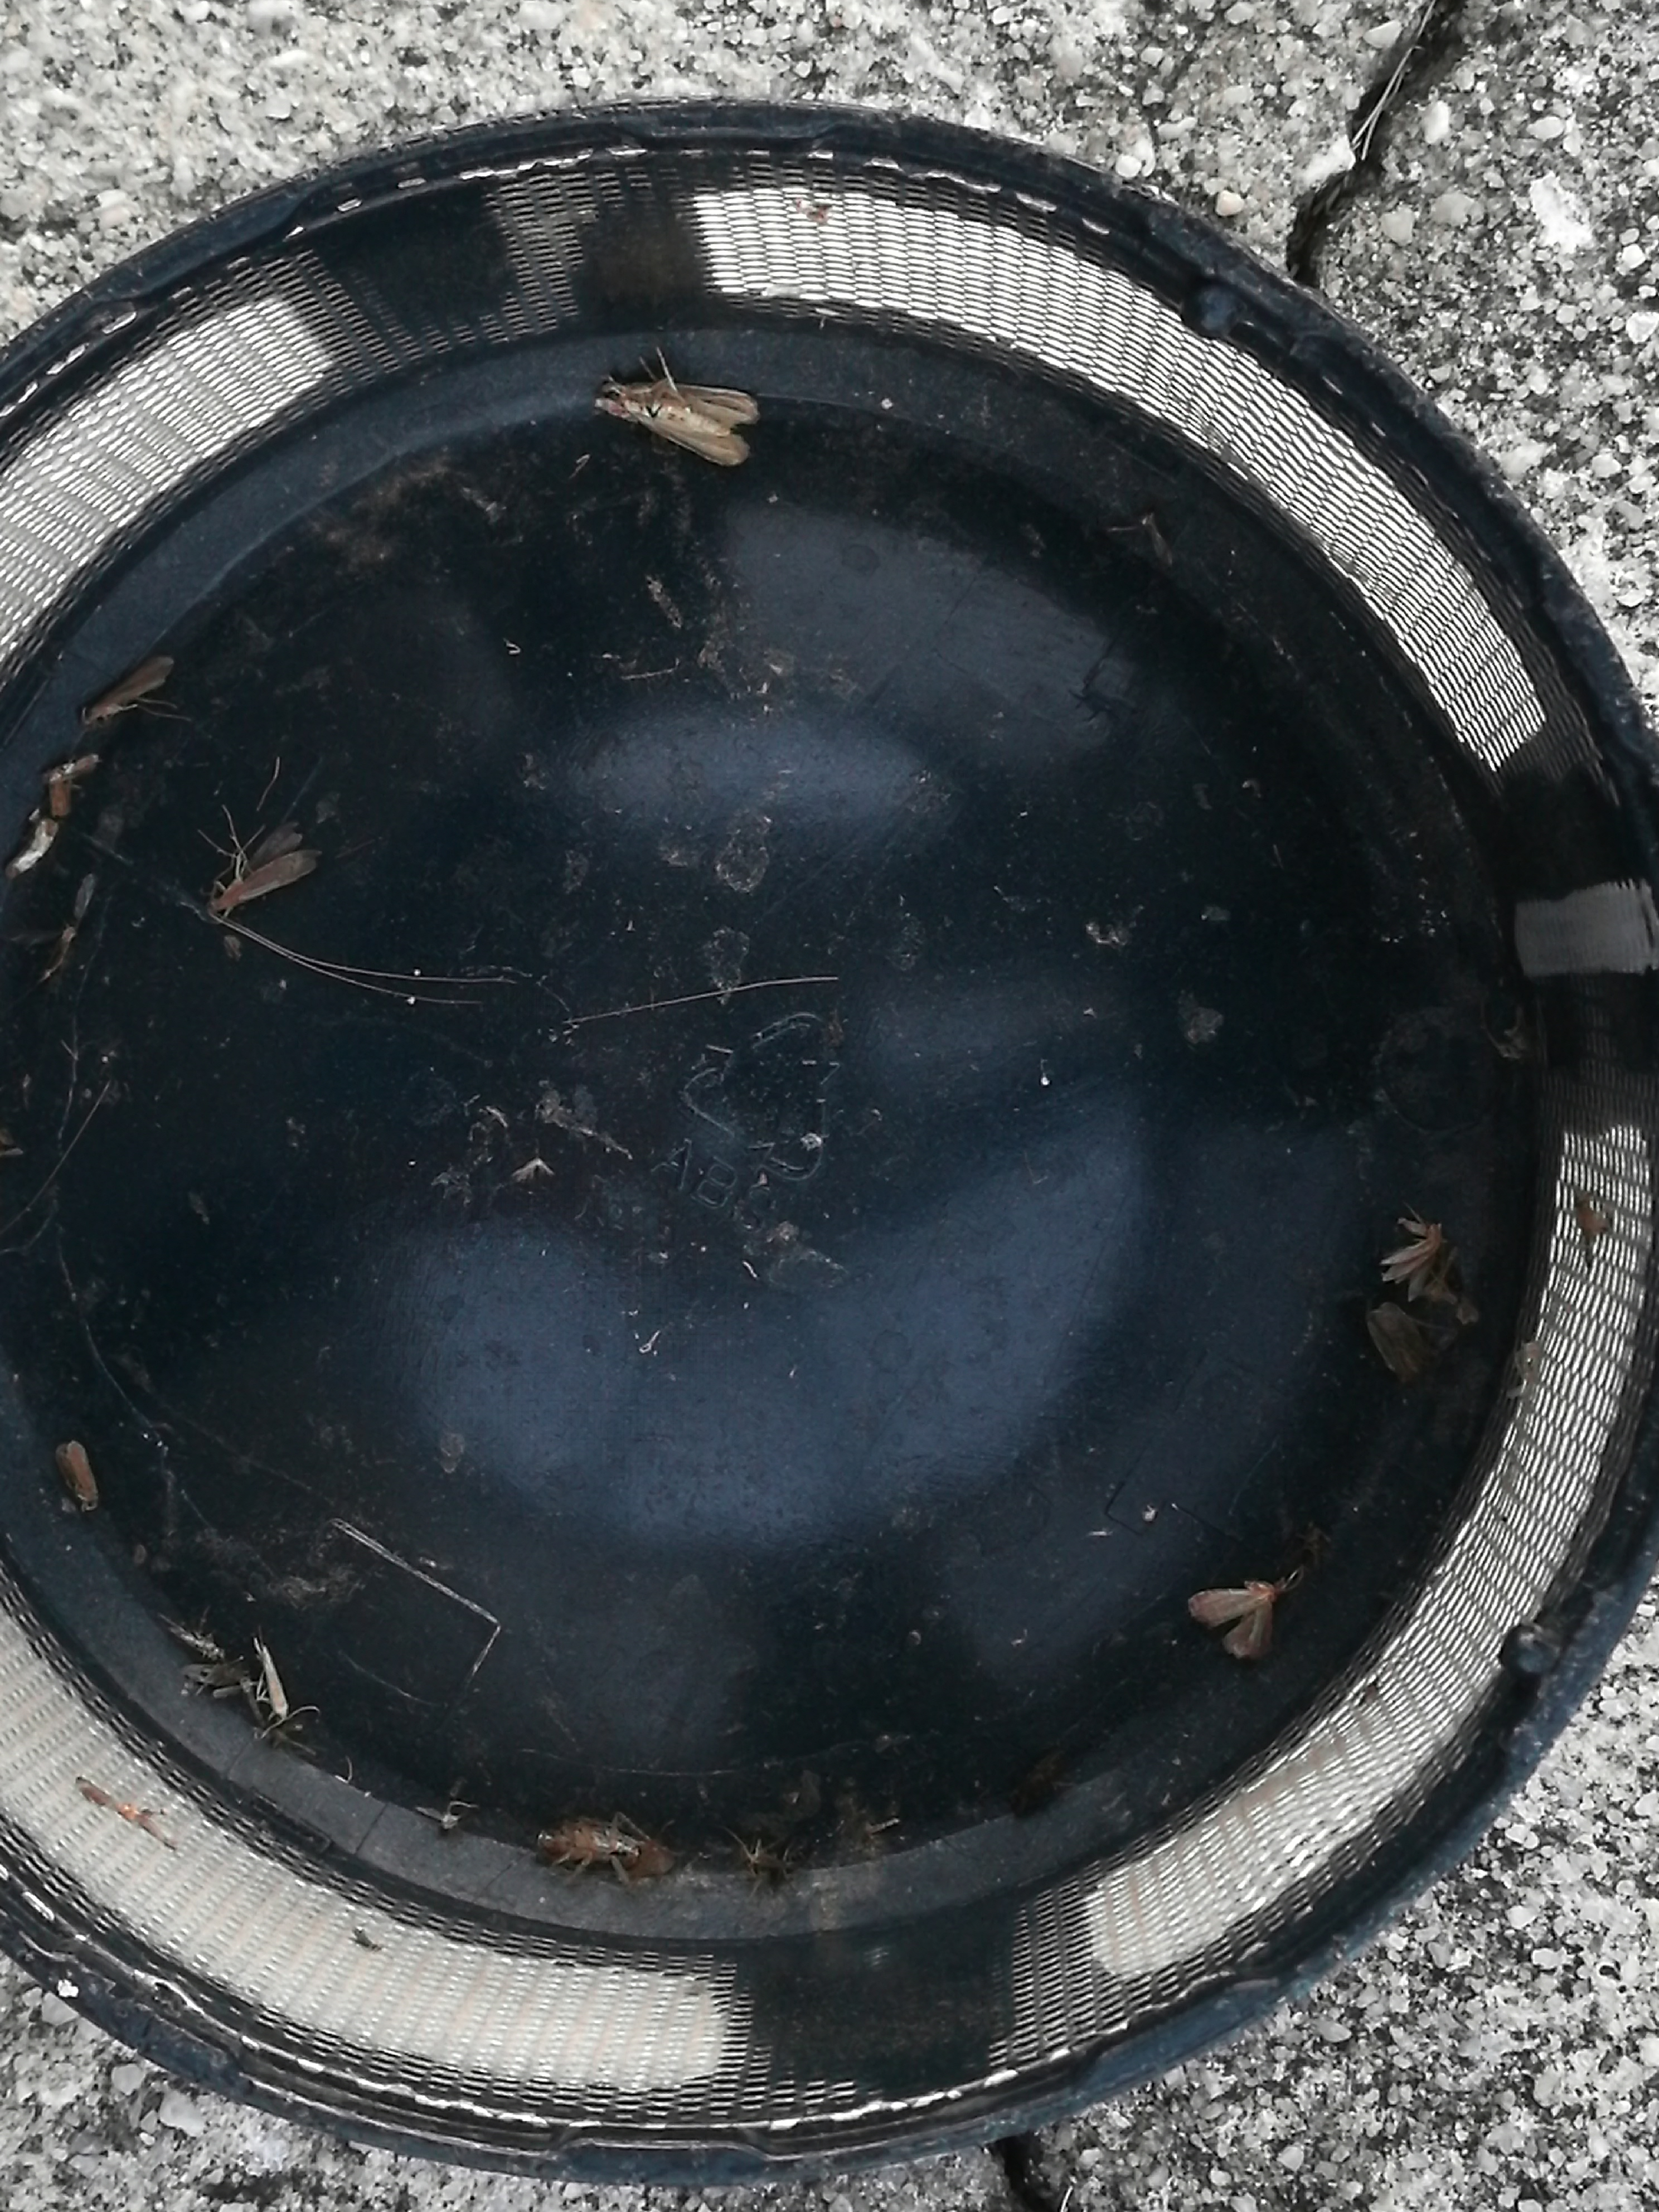mosquito: (206, 826, 321, 916), (77, 651, 169, 725), (537, 1825, 673, 1874), (56, 1440, 96, 1512), (254, 1639, 291, 1714), (179, 1663, 249, 1683)
moth: (608, 381, 760, 462), (1190, 1576, 1277, 1653)
